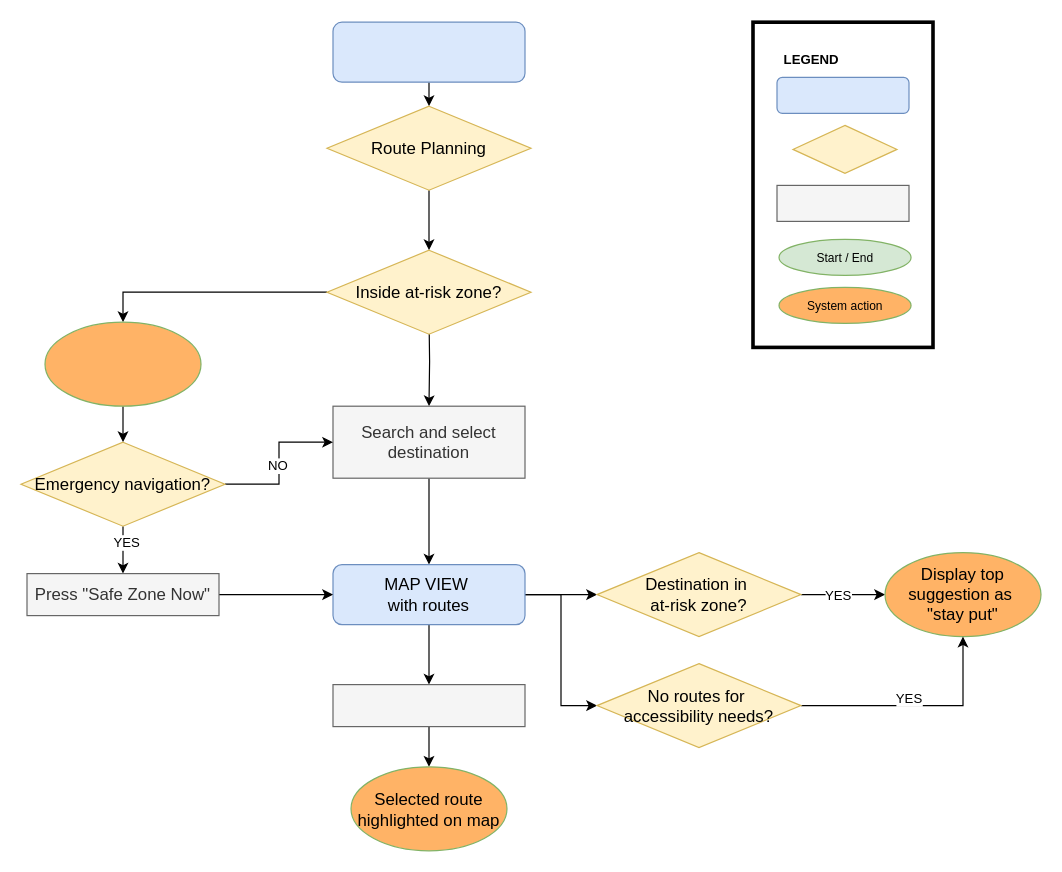
Image size: 1062x872. Some labels were removed from this diagram. Each missing label, with the centre of its shape:
"Action / Process" goes at pixel 842 202.
"Decision" goes at pixel 844 148.
"MAP View" goes at pixel 428 51.
"Safe Zone Now button displayed" goes at pixel 122 363.
"Screen / Page" goes at pixel 842 94.
"Select route option" goes at pixel 428 705.
